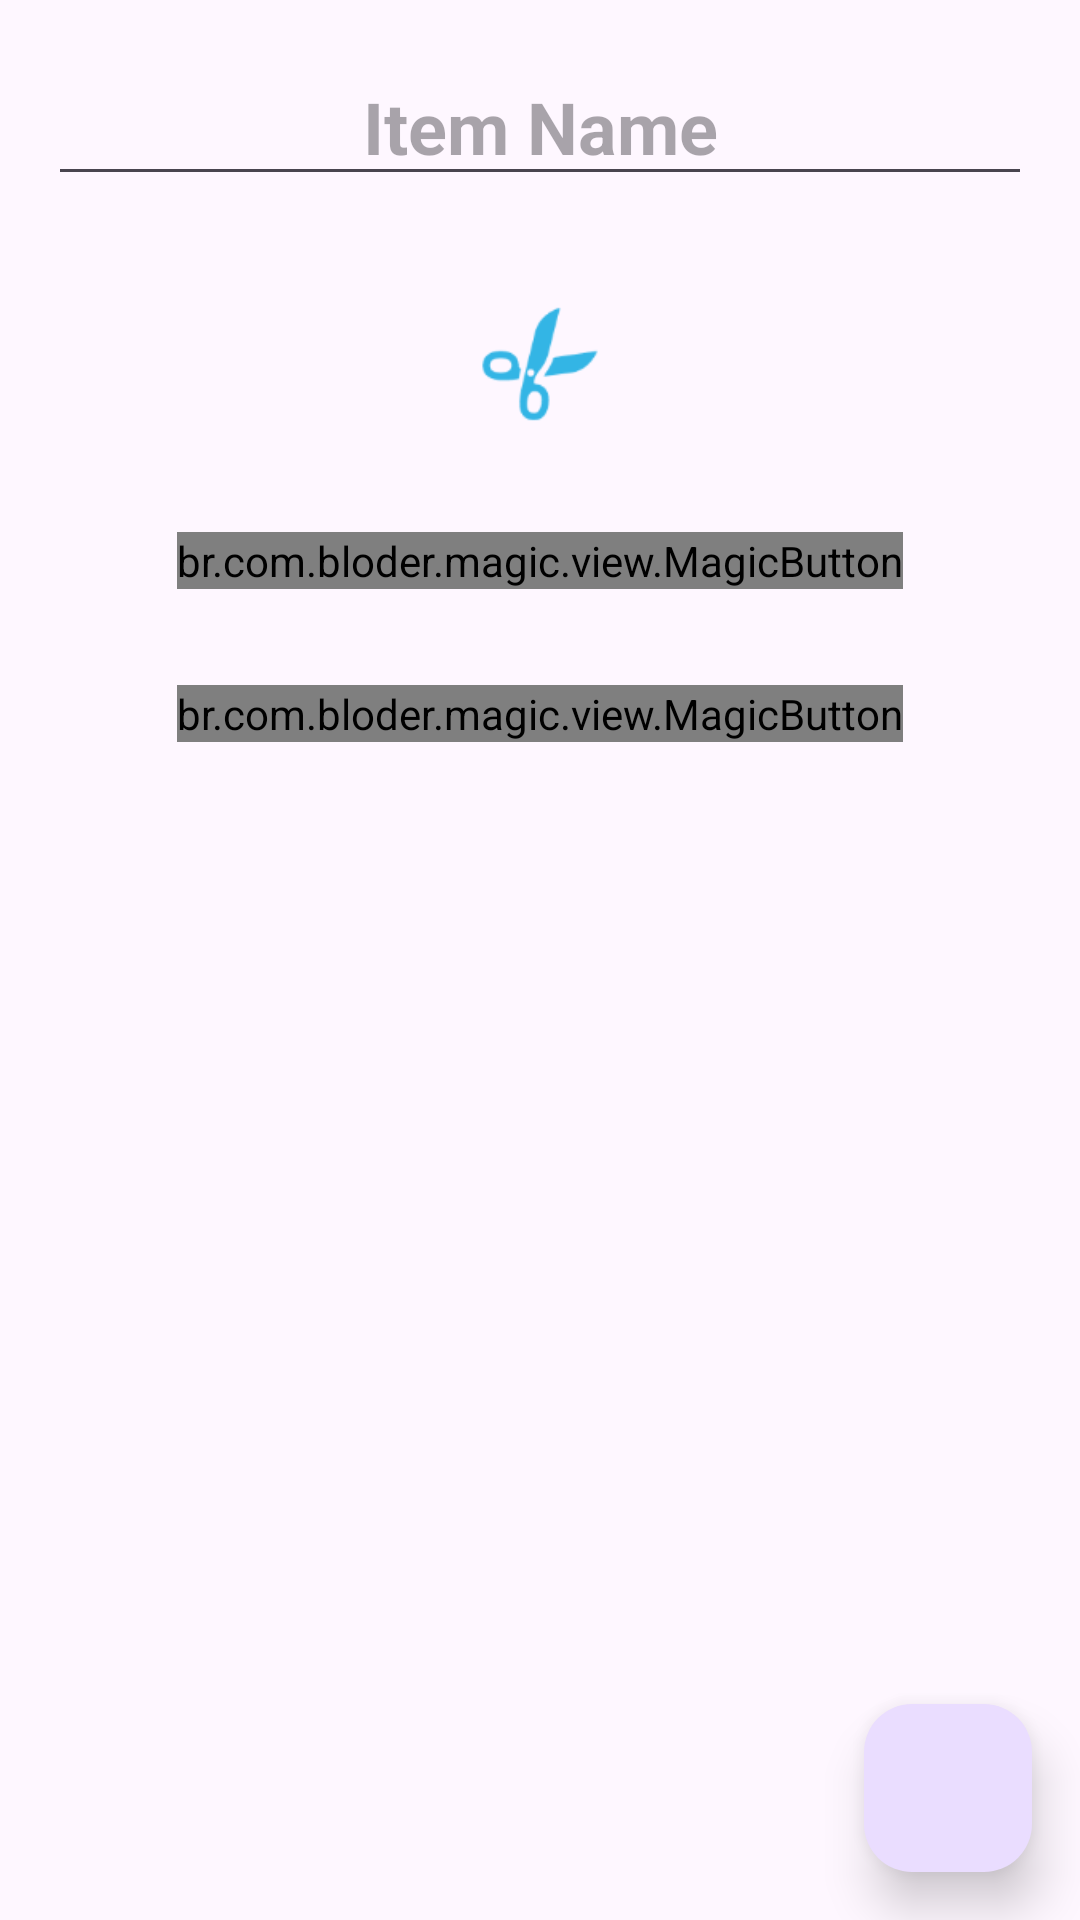

Named icons in this screenshot (1080×1920) and their bounding boxes, (x1, y1, x2, y2):
cut: (482, 307, 598, 421)
